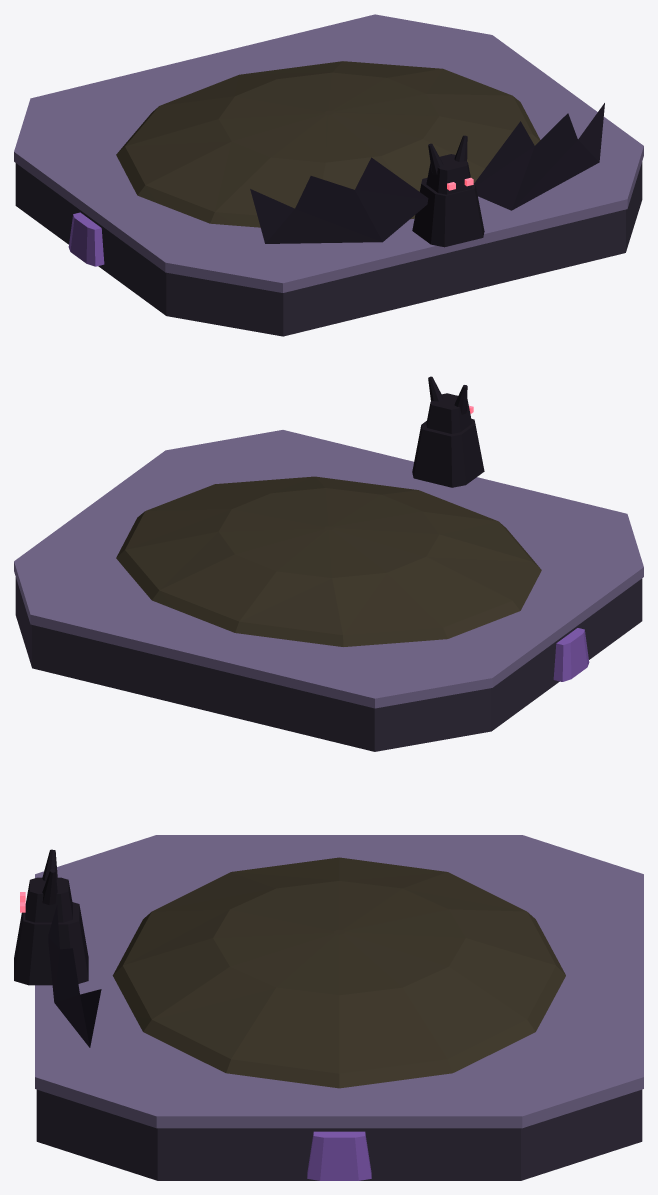
The model's file is batcirclet.glb.
3 views of the same model, one above another, from view 1: azimuth 30°, elevation 25°; view 2: azimuth 150°, elevation 25°; view 3: azimuth 270°, elevation 25° (orthographic). The views are drawn at different scales.
Parts seen in each view (by area): view 1: Bat-Notch Circlet.002; view 2: Bat-Notch Circlet.002; view 3: Bat-Notch Circlet.002.
Part boxes in pixels (<box>): Bat-Notch Circlet.002: <box>14,14,643,336</box>; Bat-Notch Circlet.002: <box>14,376,643,751</box>; Bat-Notch Circlet.002: <box>14,835,643,1180</box>.
Size of the model in its own units: 0.637 by 0.1821 by 0.575.
